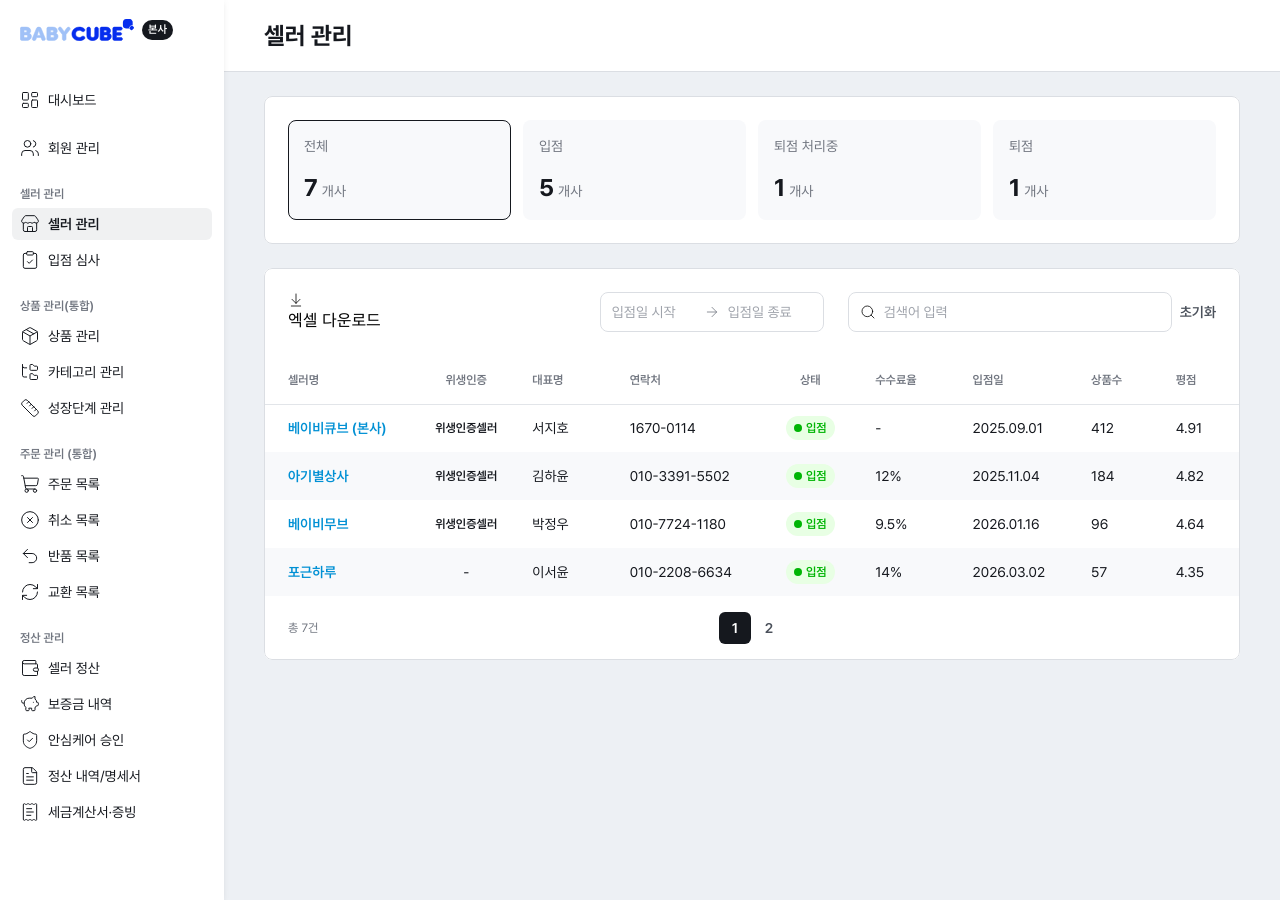
Scenario: SellerListPage (S03 셀러 관리) › 상태 대시 — 원본 StatDash › 대시 상자가 곧 상태 필터다 — 입점을 고르면 영업 중인 셀러만 남는다
The width and height of the screenshot is (1280, 900).
Step 1. Click the button with aria-label "입점 5개사" → (634, 170), box 523,120 -> 746,220
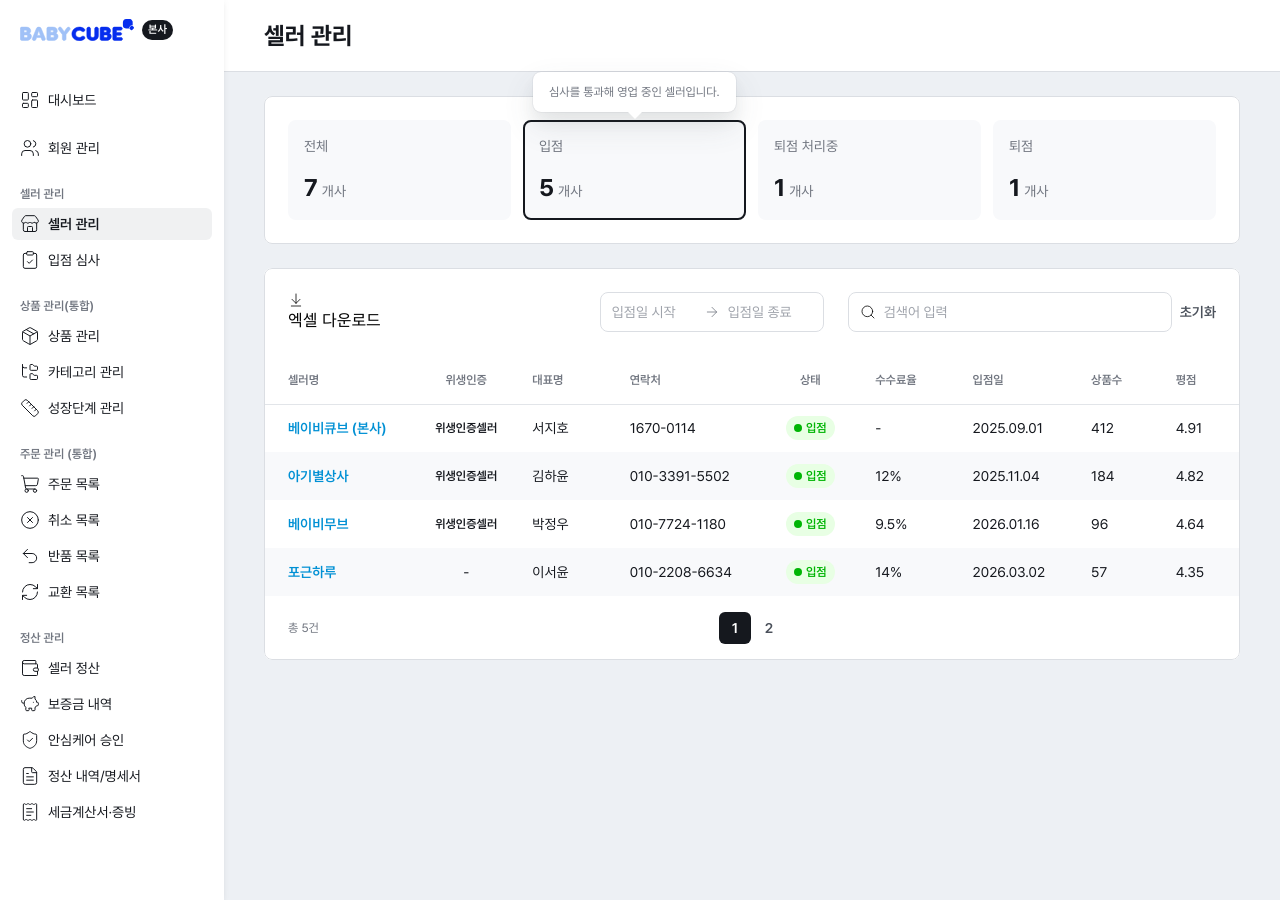
Expected: the text "총 5건" is shown, 288,620 -> 319,636
